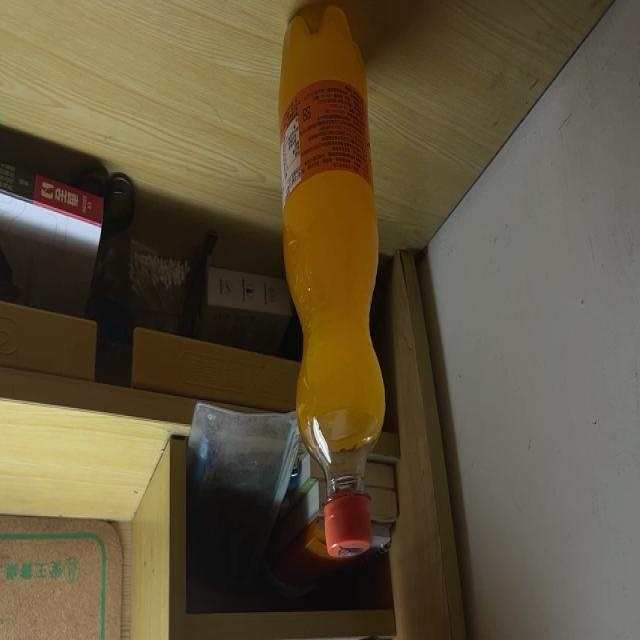Fanta: (277, 0, 387, 559)
